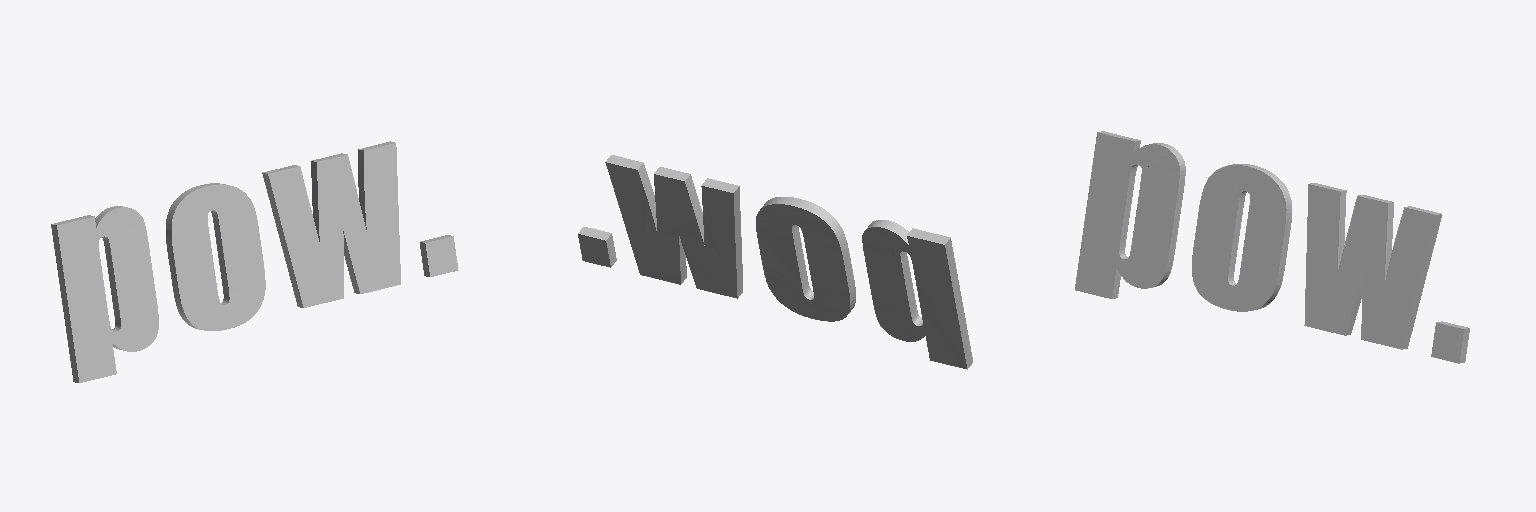
The model's file is power.obj.
The picture shows the model from 3 angles: view 1: azimuth 30°, elevation 25°; view 2: azimuth 150°, elevation 25°; view 3: azimuth 330°, elevation 25°; orthographic projection.
Parts seen in each view (by area): view 1: Text.004_Text.001; view 2: Text.004_Text.001; view 3: Text.004_Text.001.
Boxes of the visible parts, x1=… form: Text.004_Text.001: x1=51, y1=141, x2=458, y2=382; Text.004_Text.001: x1=578, y1=155, x2=972, y2=369; Text.004_Text.001: x1=1075, y1=131, x2=1469, y2=363.
Size of the model in its own units: 0.0215 by 0.0079 by 0.0028.